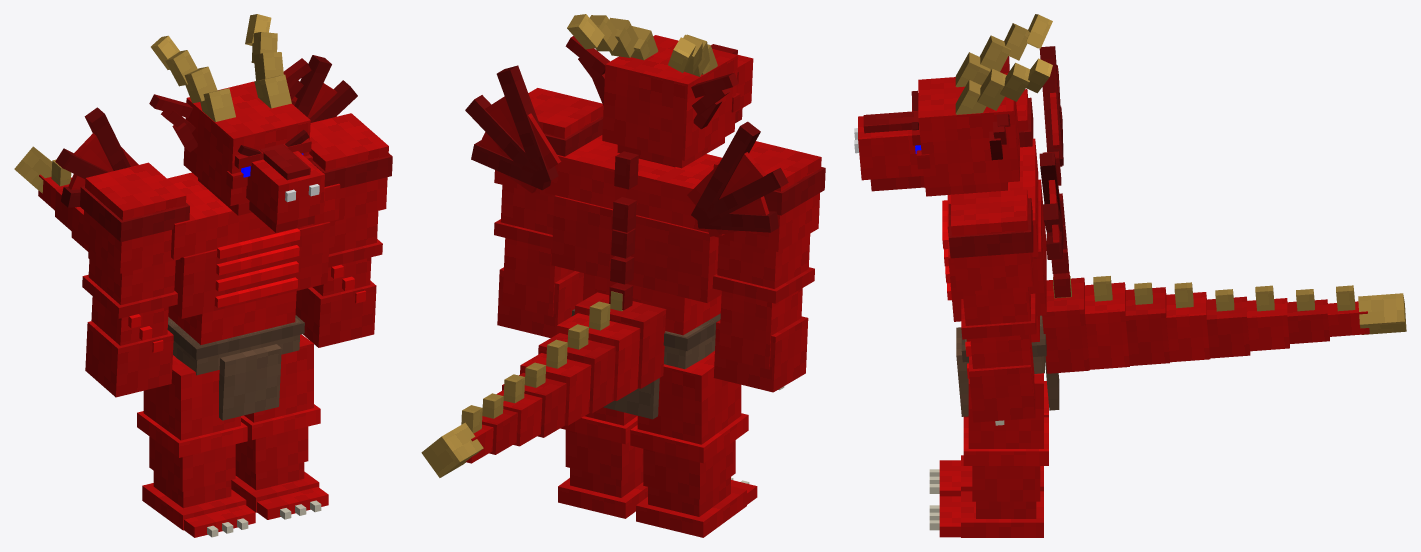
Rendered from dragonoid_s2.glb.
The picture shows the model from 3 angles, left to right: view 1: azimuth 30°, elevation 25°; view 2: azimuth 150°, elevation 25°; view 3: azimuth 270°, elevation 25°; orthographic projection. The views are drawn at different scales.
Visible parts, largest first — view 1: Torso, Head, ArmR, ArmL, LegR, LegL, Root; view 2: Torso, Head, ArmR, LegR, ArmL, LegL; view 3: Torso, Head, ArmL, LegL, LegR, ArmR.
Boxes of the visible parts, x1,y1,x2,y2 form: Torso: (14,55,357,420); Head: (149,14,324,232); ArmR: (80,162,189,397); ArmL: (295,113,392,347); LegR: (137,355,255,537); LegL: (231,334,328,519); Root: (207,500,321,537); Torso: (421,65,788,477); Head: (565,14,753,168); ArmR: (712,141,825,392); LegR: (630,350,757,537); ArmL: (494,88,603,337); LegL: (558,407,647,518); Torso: (942,46,1406,416); Head: (854,14,1052,196); ArmL: (948,189,1036,425); LegL: (939,373,1048,537); LegR: (939,381,1048,496); ArmR: (1016,89,1033,147).
Size of the model in its own units: 1.38 by 2.05 by 2.2.
29 materials, 29 textured.
